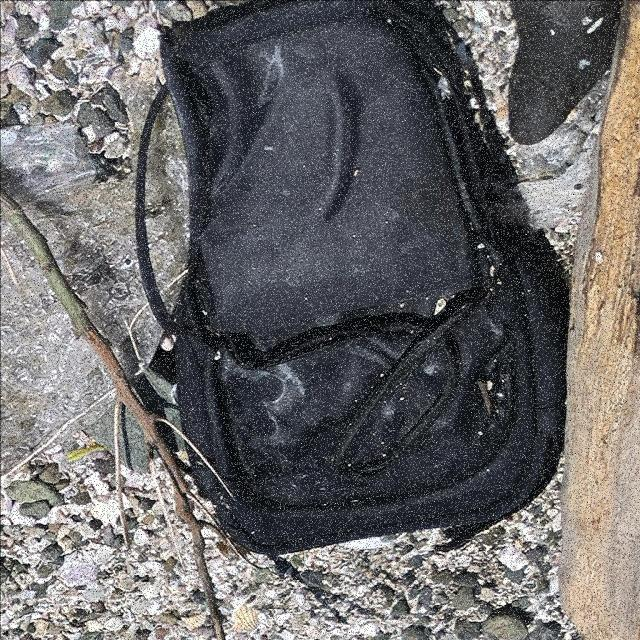textile_waste: (135, 1, 573, 560)
